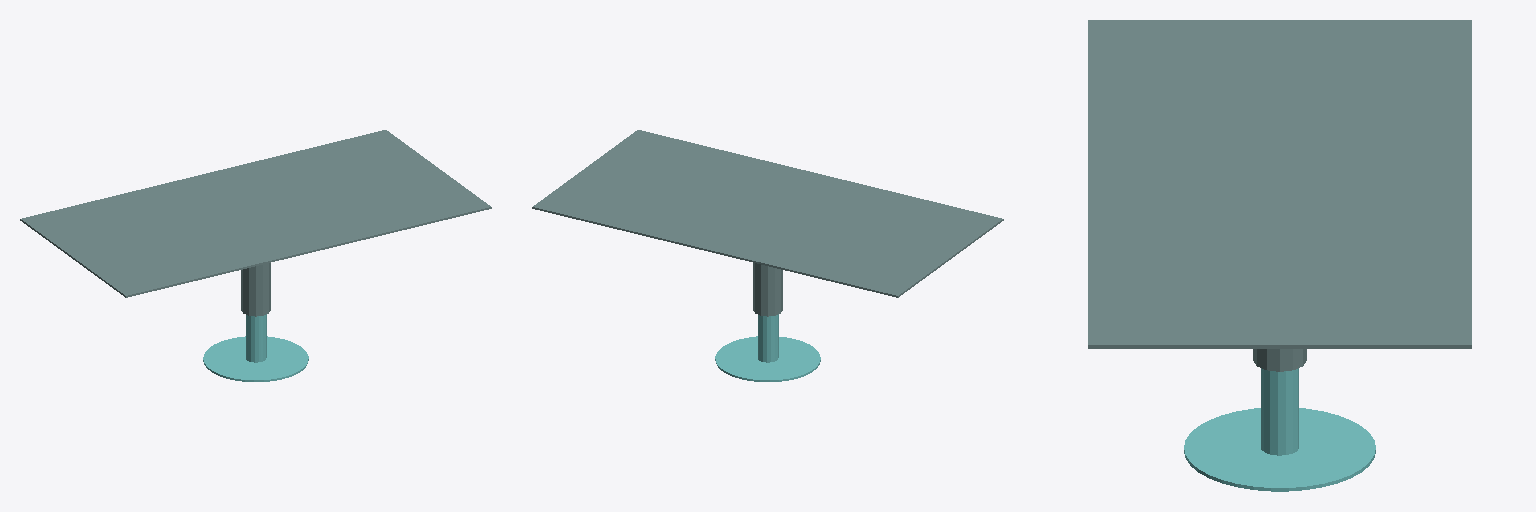
robot.urdf — dp_2:
<?xml version="1.0" encoding="utf-8"?>
<!-- This URDF was automatically created by SolidWorks to URDF Exporter! Originally created by [author] ([email redacted])
     Commit Version: 1.5.1-0-g916b5db  Build Version: 1.5.7152.31018
     For more information, please see http://wiki.ros.org/sw_urdf_exporter -->
<robot
  name="dp_2">
  <link
    name="Guide_pillar">
    <inertial>
      <origin
        xyz="-1.0823E-32 0.21029 1.0059E-17"
        rpy="0 0 0" />
      <mass
        value="18.025" />
      <inertia
        ixx="0.82065"
        ixy="-3.0672E-32"
        ixz="-1.9173E-32"
        iyy="0.18157"
        iyz="3.9198E-16"
        izz="0.82065" />
    </inertial>
    <visual>
      <origin
        xyz="0 0 0"
        rpy="0 0 0" />
      <geometry>
        <mesh
          filename="DRS_VerticalMotion/meshes/Guide_pillar.STL" />
      </geometry>
      <material
        name="">
        <color
          rgba="0.5 0.8 0.8 1" />
      </material>
    </visual>
    <collision>
      <origin
        xyz="0 0 0"
        rpy="0 0 0" />
      <geometry>
        <mesh
          filename="DRS_VerticalMotion/meshes/Guide_pillar.STL" />
      </geometry>
    </collision>
  </link>
  <link
    name="platform_plane">
    <inertial>
      <origin
        xyz="4.2171E-35 0.46456 -4.0282E-18"
        rpy="0 0 0" />
      <mass
        value="64.179" />
      <inertia
        ixx="5.2882"
        ixy="0"
        ixz="2.4543E-35"
        iyy="22.538"
        iyz="1.4637E-16"
        izz="18.788" />
    </inertial>
    <visual>
      <origin
        xyz="0 0 0"
        rpy="0 0 0" />
      <geometry>
        <mesh
          filename="DRS_VerticalMotion/meshes/platform_plane.STL" />
      </geometry>
      <material
        name="AL">
        <color
          rgba="0.5 0.6 0.6 1" />
      </material>
    </visual>
    <collision>
      <origin
        xyz="0 0.005 0.0"
        rpy="0 0 0" />
      <geometry>
        <mesh
          filename="DRS_VerticalMotion/meshes/platform_plane.STL" />
      </geometry>
    </collision>
  </link>
  <joint
    name="P1"
    type="prismatic">
    <origin
      xyz="0 0 0.25"
      rpy="1.5708 0 0" />
    <parent
      link="Guide_pillar" />
    <child
      link="platform_plane" />
    <axis
      xyz="0 1 0 " />
    <limit
      lower="-0.25"
      upper="0.35"
      effort="0"
      velocity="10" />
  </joint>
</robot>

--- Facts derived from the render (not from the file) ---
Views: 3 orthographic renders of the robot side by side, from view 1: azimuth 30°, elevation 25°; view 2: azimuth 150°, elevation 25°; view 3: azimuth 270°, elevation 25°.
Model dp_2 with 2 links and 1 joints (1 prismatic), rooted at Guide_pillar, posed every joint at zero.
Visible links, largest first — view 1: platform_plane, Guide_pillar; view 2: platform_plane, Guide_pillar; view 3: platform_plane, Guide_pillar.
Link boxes in pixels (x1,y1,x2,y2): platform_plane: (20,130,491,316); Guide_pillar: (203,314,308,381); platform_plane: (532,130,1003,316); Guide_pillar: (715,314,820,381); platform_plane: (1088,20,1471,371); Guide_pillar: (1184,368,1375,491).
Size in the robot's own frame: 2 by 1 by 0.77 metres.
2 mesh visuals loaded from 2 distinct referenced files (2 binary STL).